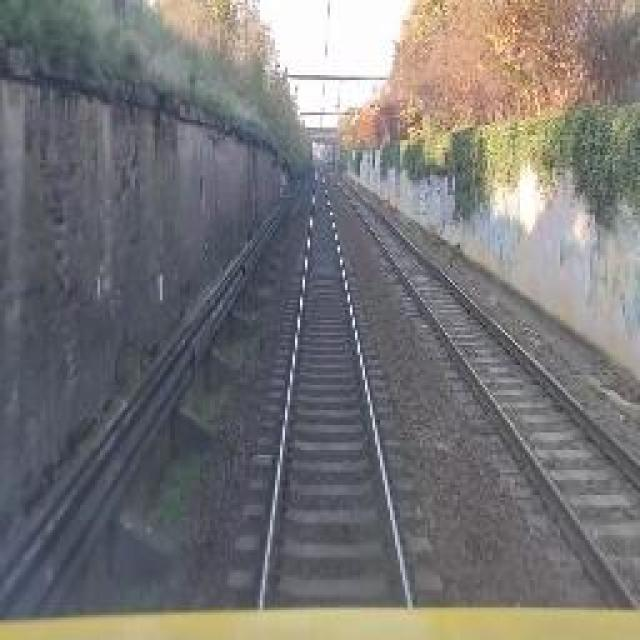rail: (225, 164, 442, 607)
